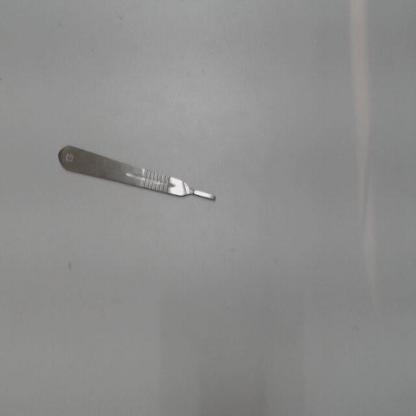No.3 BP Handle: (54, 138, 220, 209)
